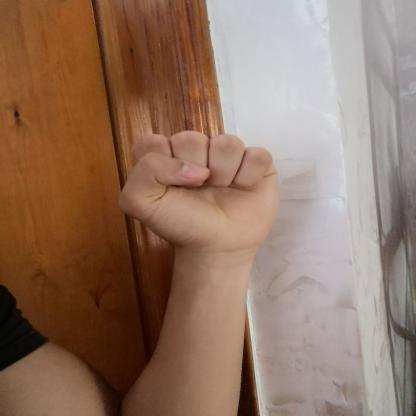SAD: (96, 116, 294, 262)
